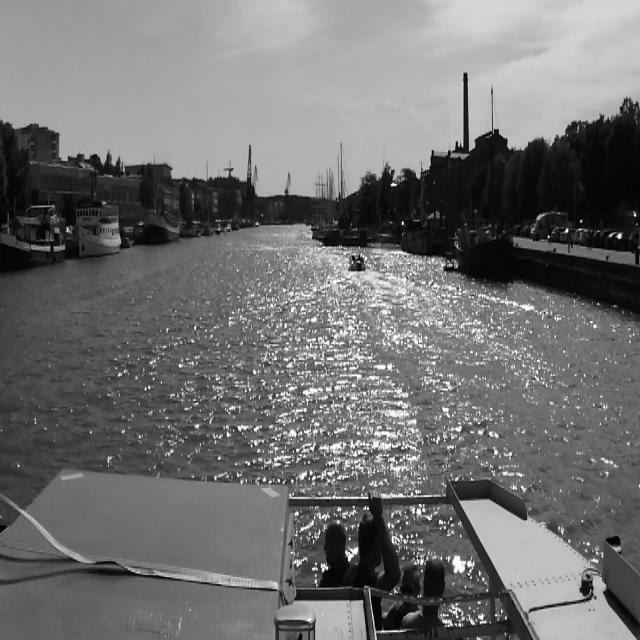ship: (452, 195, 516, 282), (0, 213, 68, 276), (145, 154, 181, 245), (73, 201, 122, 259), (310, 220, 370, 247), (308, 166, 326, 228), (348, 253, 366, 272)
